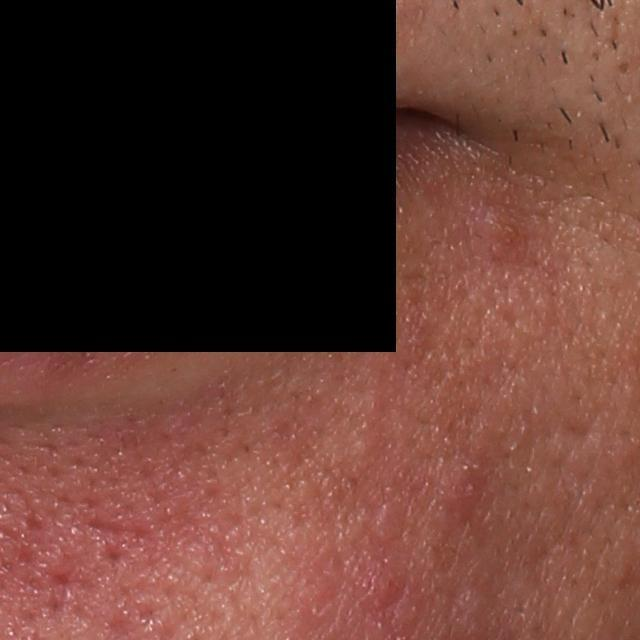papule: (476, 201, 523, 244)
